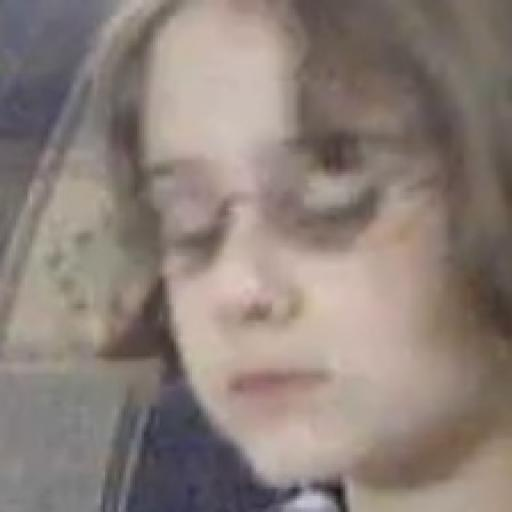Autism: (88, 5, 512, 512)
